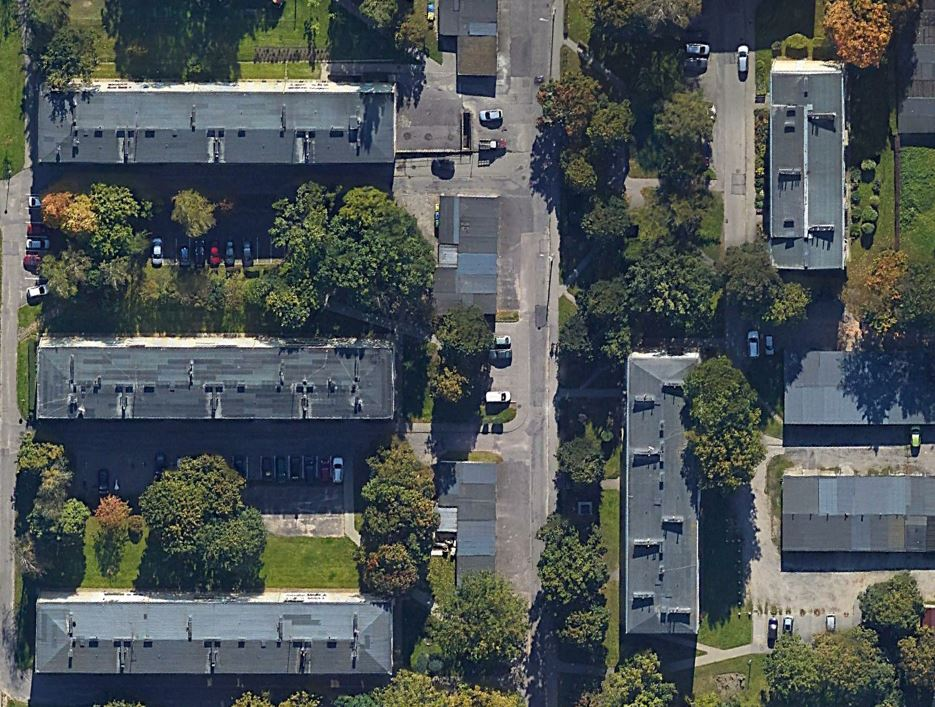block of flats: (29, 74, 405, 173), (34, 335, 402, 424), (32, 590, 399, 677), (617, 338, 711, 640), (765, 54, 850, 271)
garage: (775, 467, 935, 557), (777, 343, 935, 430), (423, 189, 503, 327), (421, 460, 496, 599), (889, 4, 935, 139), (433, 1, 502, 81)
